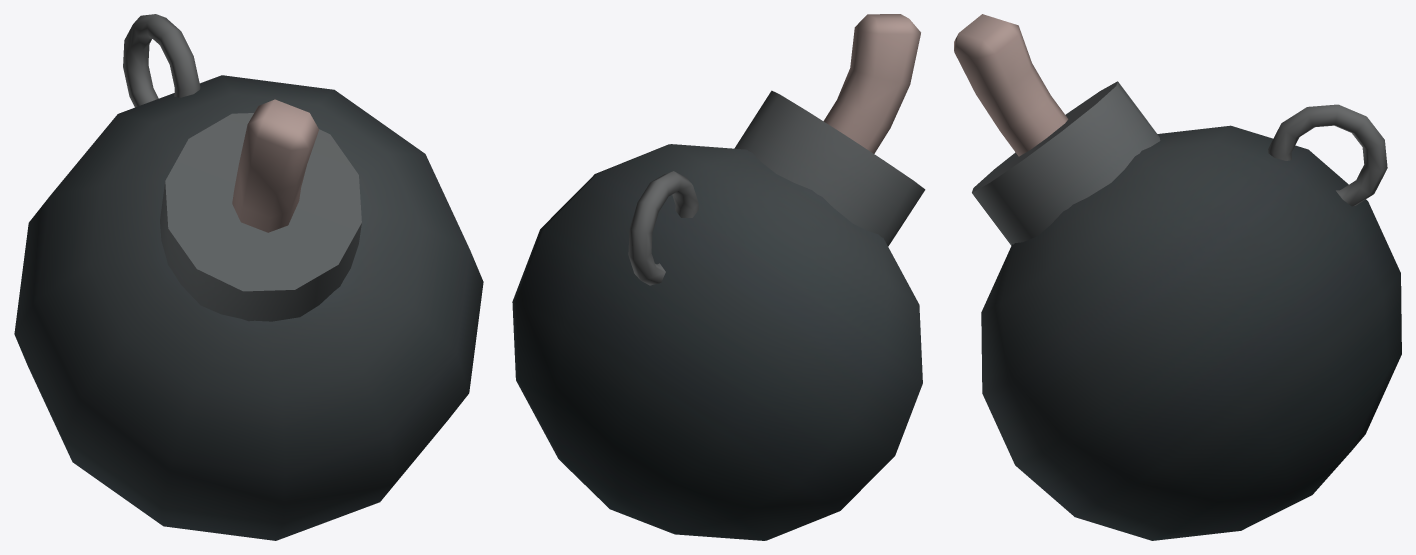
The model's file is Charm_12.fbx.
The picture shows the model from 3 angles, left to right: view 1: azimuth 30°, elevation 25°; view 2: azimuth 150°, elevation 25°; view 3: azimuth 270°, elevation 25°; orthographic projection. The views are drawn at different scales.
Parts seen in each view (by area): view 1: Charm_12; view 2: Charm_12; view 3: Charm_12.
Part boxes in pixels (x1,y1,x2,y2): Charm_12: (14,14,483,540); Charm_12: (512,14,925,540); Charm_12: (954,14,1401,540).
Size of the model in its own units: 4.38 by 5.37 by 4.65.
